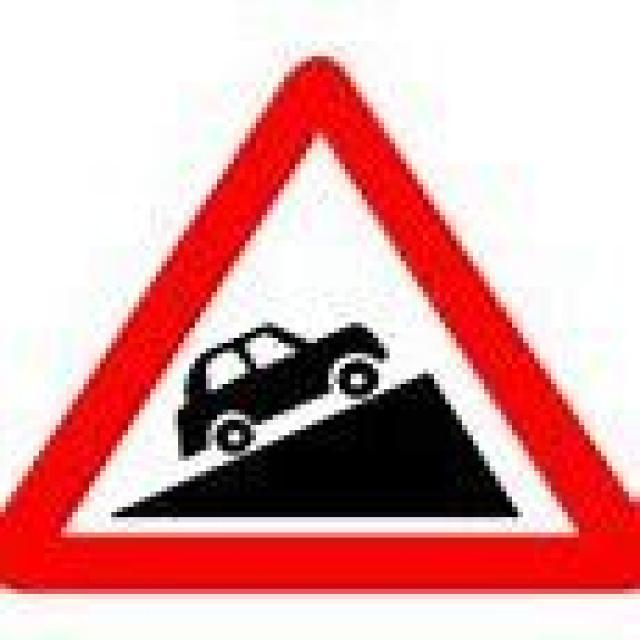steep ascent: (29, 56, 611, 594)
